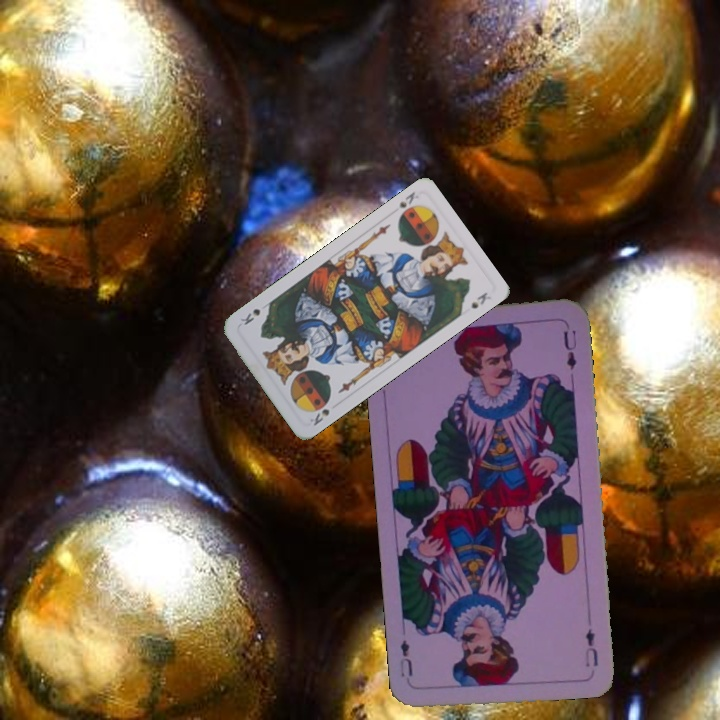EU: (581, 624, 601, 670)
SK: (394, 187, 421, 221), (306, 405, 332, 429)
